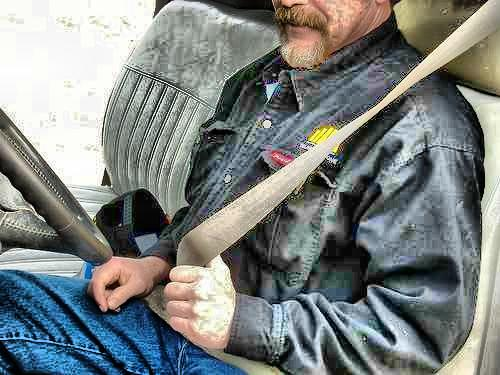seatbelt: (137, 18, 487, 321)
